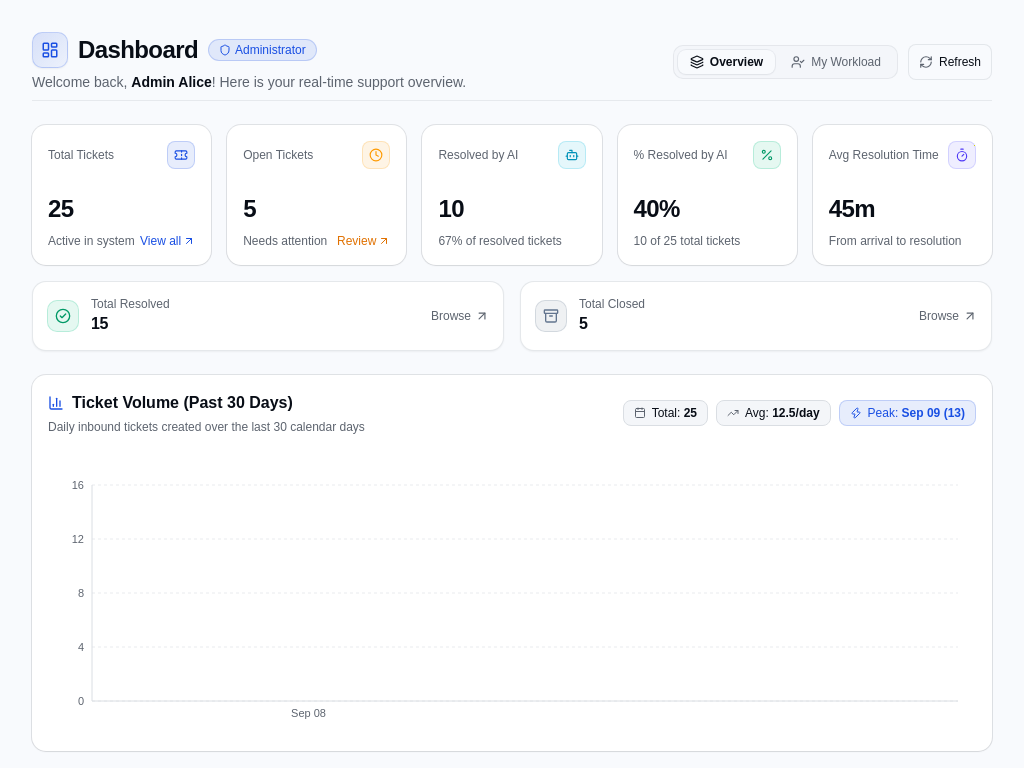
Test: DashboardPage › Admin View › allows admin to switch to 'My Workload' tab to inspect personal tickets
The width and height of the screenshot is (1024, 768).
Step 1. Click the button with test id "admin-tab-assigned" → point(836, 62), box top-left (779, 50), bottom-right (893, 74)
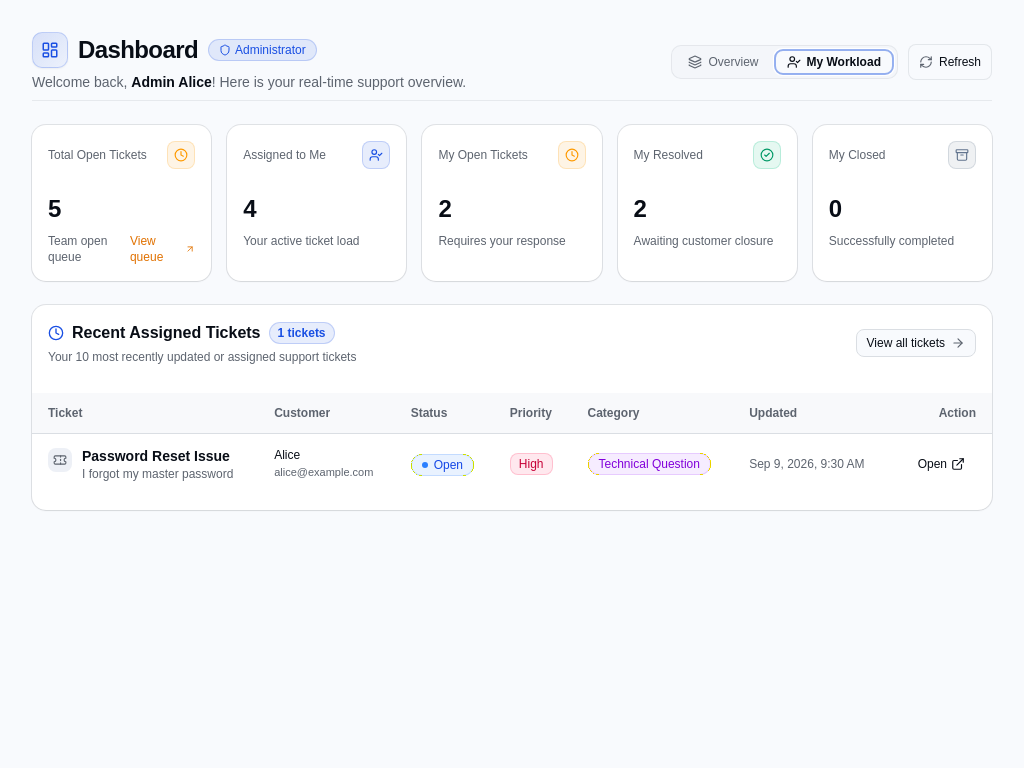
Check: the element with test id "agent-stats-cards" is shown, box top-left (32, 125), bottom-right (992, 281)
Check: the element with test id "recent-assigned-tickets-table" is shown, box top-left (32, 305), bottom-right (992, 510)
Check: the link "Password Reset Issue" is shown, box top-left (82, 446), bottom-right (233, 466)
Note: Switching back to overview
Step 2. Click the button with test id "admin-tab-overview" → point(724, 62), box top-left (676, 50), bottom-right (770, 74)
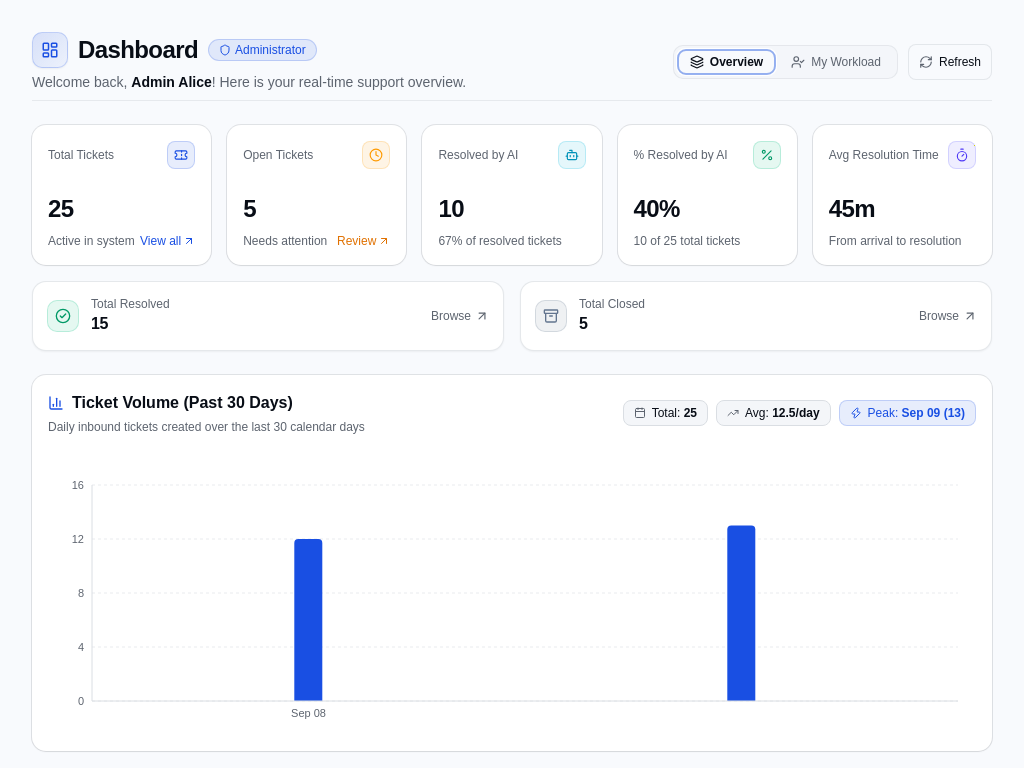
Check: the element with test id "admin-stats-cards" is shown, box top-left (32, 125), bottom-right (992, 351)
Check: the element with test id "ticket-volume-chart" is shown, box top-left (32, 375), bottom-right (992, 751)
